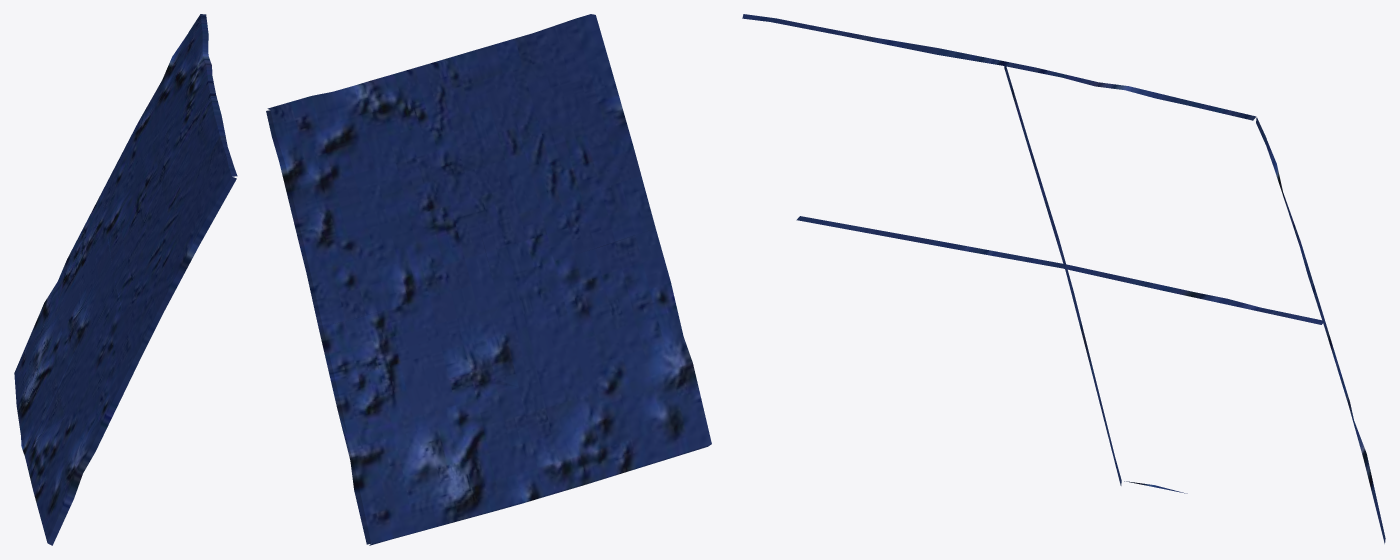
The picture shows the model from 3 angles, left to right: view 1: azimuth 30°, elevation 25°; view 2: azimuth 150°, elevation 25°; view 3: azimuth 270°, elevation 25°; orthographic projection. The views are drawn at different scales.
Size of the model in its own units: 491497 by 571418 by 630140.
1 material, 1 textured.
